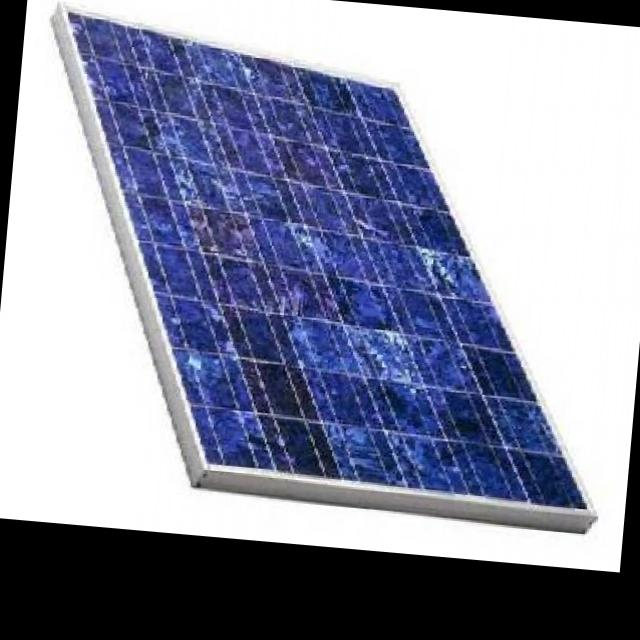faulty: (66, 16, 573, 504)
